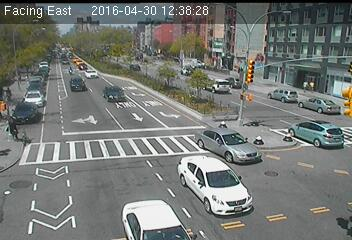neg: (152, 36, 169, 58), (144, 139, 159, 159), (192, 33, 207, 52), (239, 28, 252, 45), (119, 90, 131, 107), (204, 107, 215, 122), (167, 98, 177, 112), (95, 24, 105, 37), (218, 124, 226, 135)
pos: (1, 113, 22, 142), (300, 78, 311, 94), (308, 79, 318, 93)
